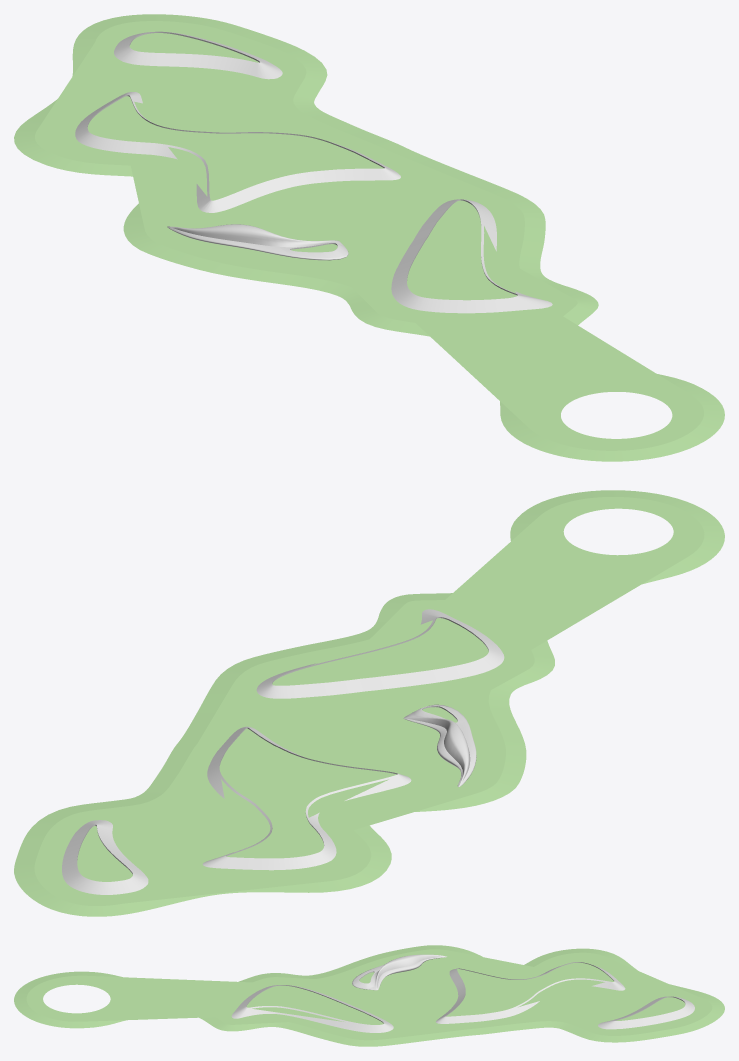
File: SM_CentralPark.fbx
3 views of the same model, one above another, from view 1: azimuth 30°, elevation 25°; view 2: azimuth 150°, elevation 25°; view 3: azimuth 270°, elevation 25° (orthographic). The views are drawn at different scales.
Visible parts, largest first — view 1: Grass, Moundgrass02, Moundgrass01, Mound02, Mound01, Furniture, Mound03, Moundgrass03; view 2: Grass, Moundgrass02, Moundgrass01, Mound01, Mound02, Mound03, Furniture, Moundgrass03; view 3: Grass, Moundgrass02, Moundgrass01, Mound02, Mound01, Furniture, Mound03, Moundgrass03.
Boxes of the visible parts, x1,y1,x2,y2 form: Grass: (14, 14, 724, 461); Moundgrass02: (87, 96, 383, 200); Moundgrass01: (407, 200, 517, 300); Mound02: (75, 92, 400, 212); Mound01: (391, 199, 552, 313); Furniture: (167, 224, 348, 260); Mound03: (114, 31, 282, 79); Moundgrass03: (129, 33, 258, 62); Grass: (14, 490, 724, 916); Moundgrass02: (219, 728, 396, 858); Moundgrass01: (272, 618, 488, 685); Mound01: (256, 609, 504, 698); Mound02: (202, 726, 411, 870); Mound03: (62, 820, 148, 894); Furniture: (403, 704, 476, 786); Moundgrass03: (77, 826, 132, 881); Grass: (14, 945, 724, 1046); Moundgrass02: (446, 962, 613, 1016); Moundgrass01: (246, 985, 383, 1024); Mound02: (436, 962, 625, 1023); Mound01: (231, 985, 393, 1032); Furniture: (352, 954, 446, 990); Mound03: (598, 996, 694, 1029); Moundgrass03: (616, 997, 685, 1020).
Size of the model in its own units: 3825 by 204 by 11305.
